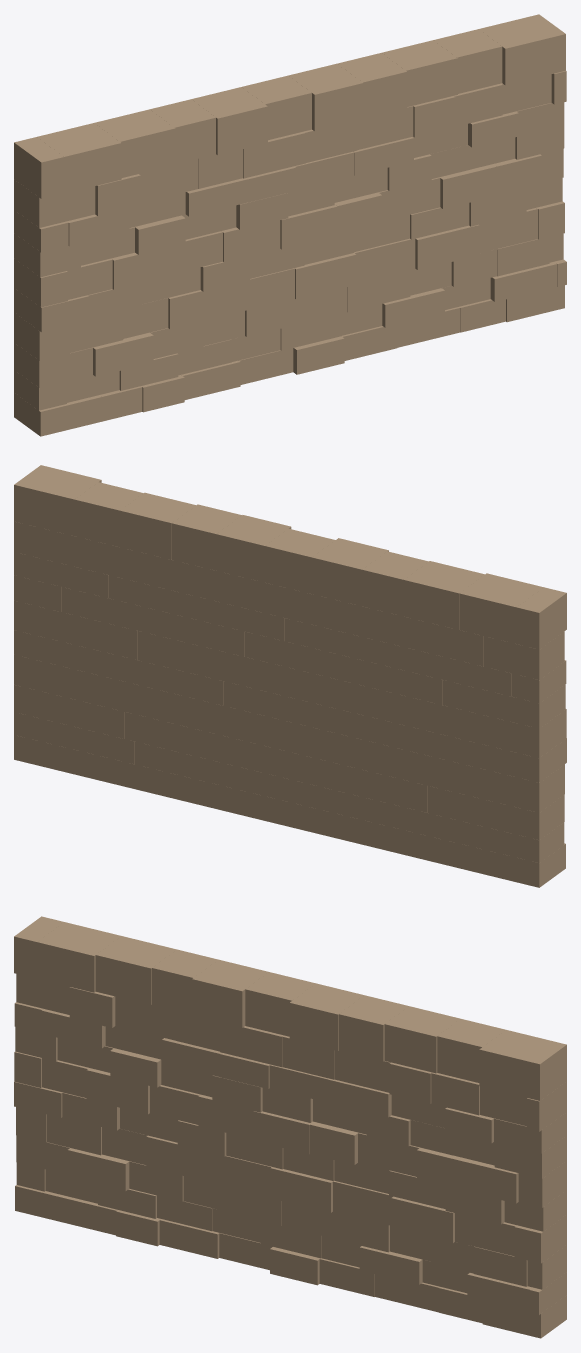
Rendered from Ingenious Jaban.glb.
3 views of the same model, one above another, from view 1: azimuth 30°, elevation 25°; view 2: azimuth 150°, elevation 25°; view 3: azimuth 330°, elevation 25° (orthographic).
Parts seen in each view (by area): view 1: Mesh_Mesh_head_geo.001_lambert2SG.001; view 2: Mesh_Mesh_head_geo.001_lambert2SG.001; view 3: Mesh_Mesh_head_geo.001_lambert2SG.001.
Part boxes in pixels (x1=…): Mesh_Mesh_head_geo.001_lambert2SG.001: x1=14, y1=14, x2=566, y2=436; Mesh_Mesh_head_geo.001_lambert2SG.001: x1=14, y1=465, x2=566, y2=887; Mesh_Mesh_head_geo.001_lambert2SG.001: x1=14, y1=916, x2=566, y2=1338.
Size of the model in its own units: 130 by 65 by 12.
